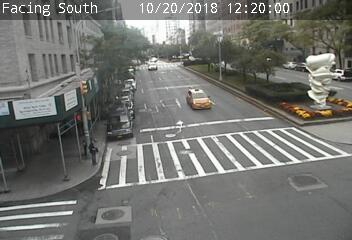car: (187, 88, 211, 110), (148, 63, 157, 70)
